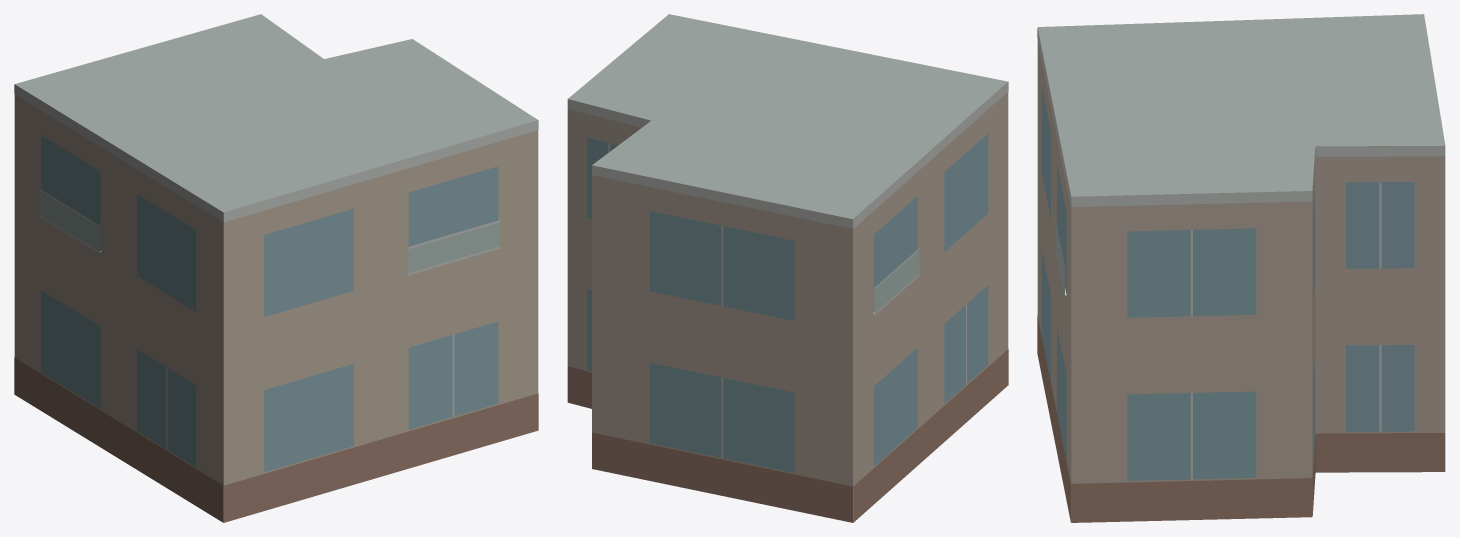
The model's file is survey-upis-32986356.glb.
The picture shows the model from 3 angles, left to right: view 1: azimuth 30°, elevation 25°; view 2: azimuth 150°, elevation 25°; view 3: azimuth 270°, elevation 25°; orthographic projection. The views are drawn at different scales.
Visible parts, largest first — view 1: survey-upis-32986356.tmp; view 2: survey-upis-32986356.tmp; view 3: survey-upis-32986356.tmp.
Boxes of the visible parts, <box> form: survey-upis-32986356.tmp: <box>14,14,538,522</box>; survey-upis-32986356.tmp: <box>567,14,1008,522</box>; survey-upis-32986356.tmp: <box>1037,14,1445,522</box>.
Bounding box in the file's own units: 9.14 × 7.6 × 8.63.
